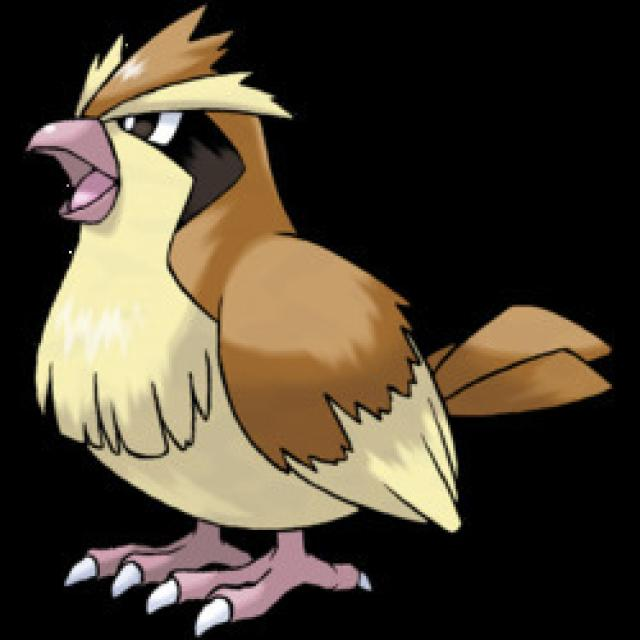Pidgey: (37, 26, 457, 613)
